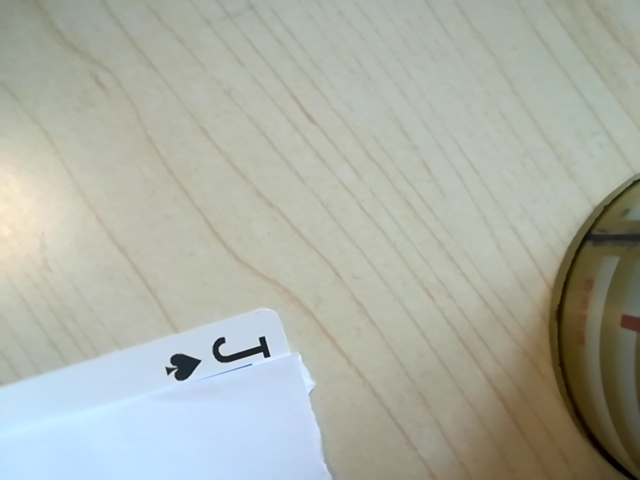ht j: (139, 327, 292, 393)
